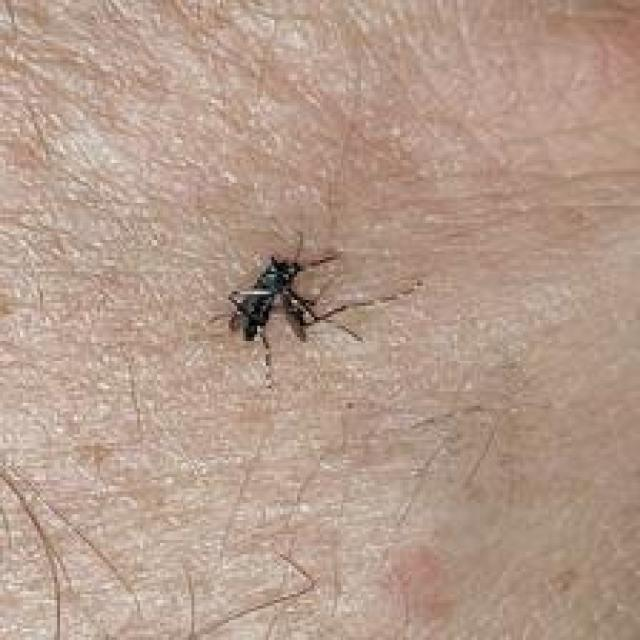Aedes albopictus: (206, 228, 423, 388)
